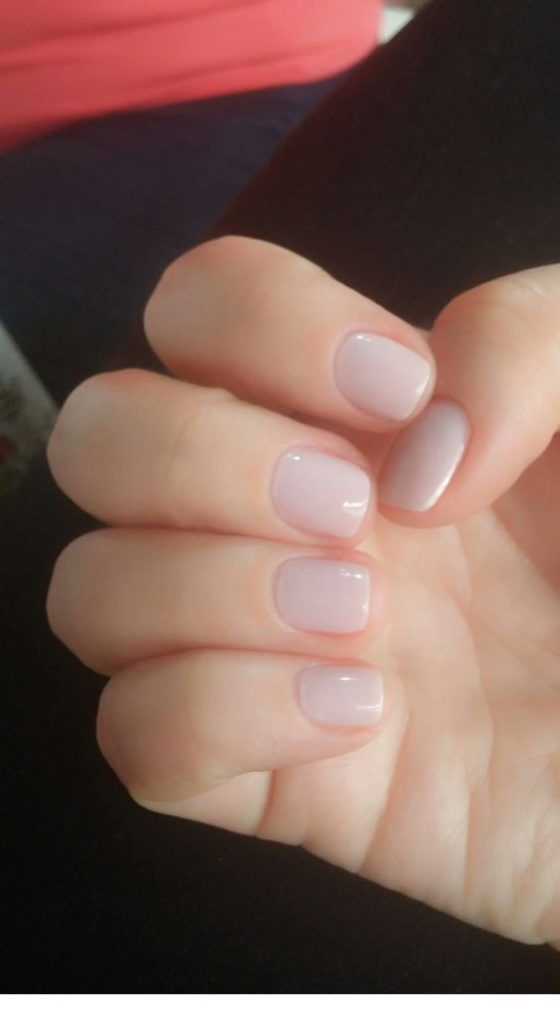nails: (255, 430, 392, 543), (321, 314, 442, 428), (370, 391, 471, 519), (288, 654, 407, 746), (267, 548, 382, 641)
